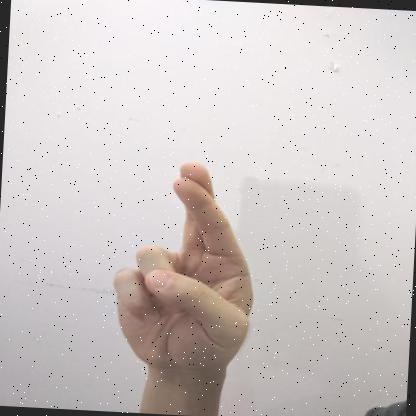R: (113, 161, 252, 376)
